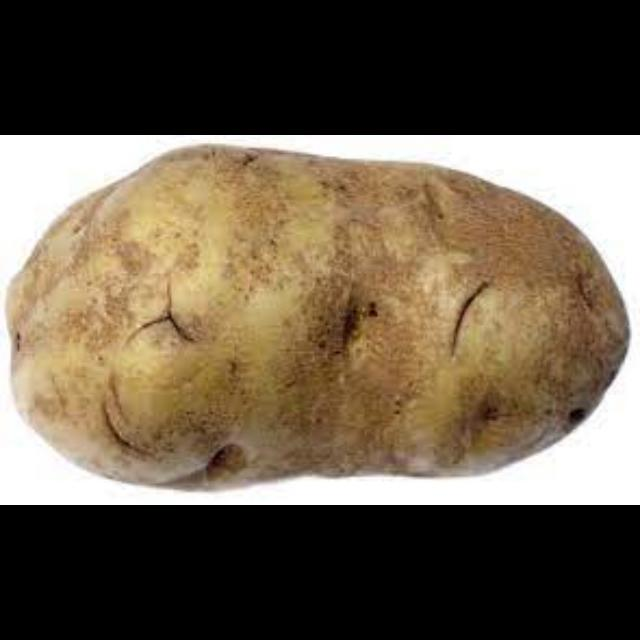Damaged potato: (0, 137, 638, 496)
